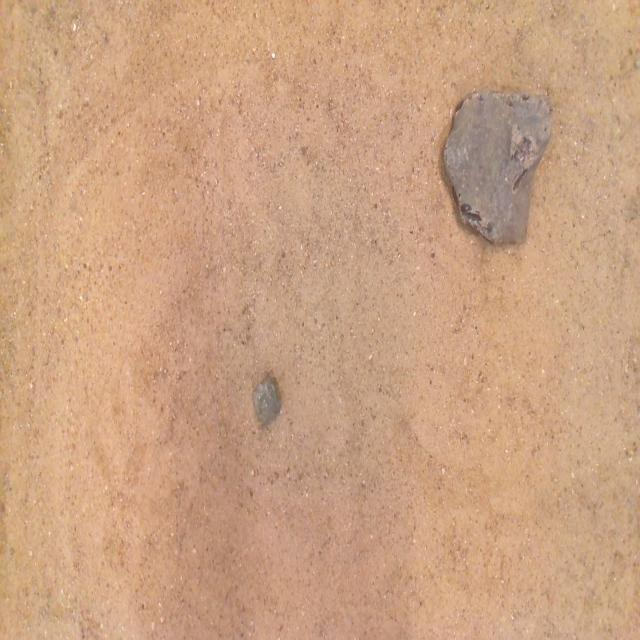rock: (444, 92, 552, 243), (253, 376, 281, 425)
